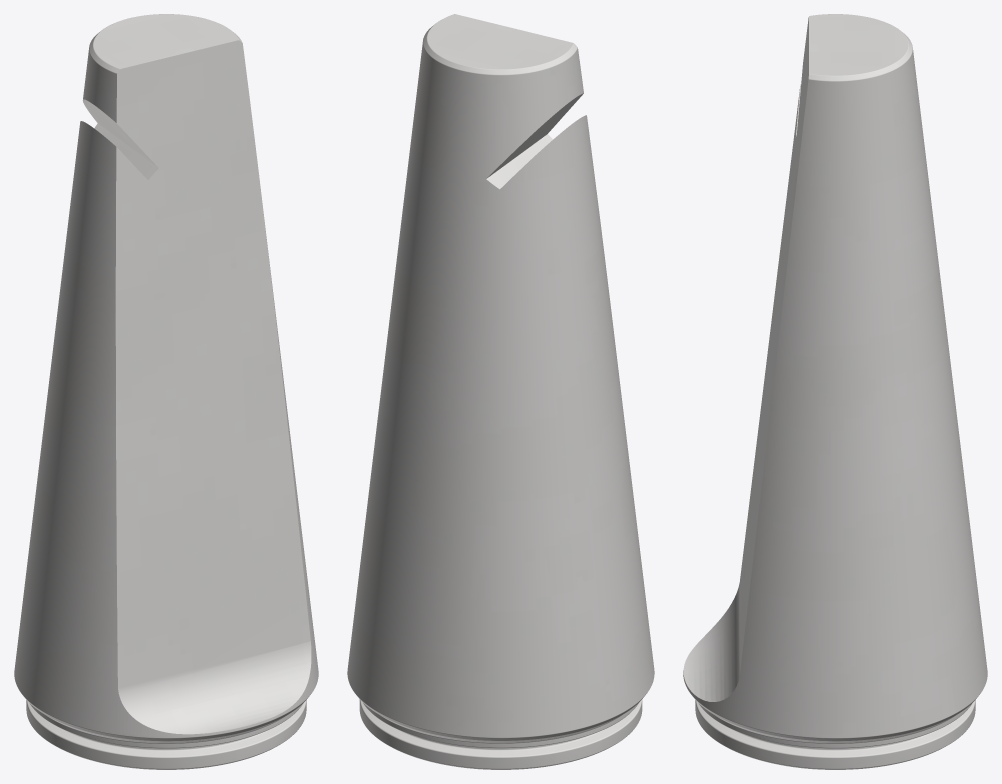
File: bishop-white-hd.glb
3 views of the same model, side by side, from view 1: azimuth 30°, elevation 25°; view 2: azimuth 150°, elevation 25°; view 3: azimuth 270°, elevation 25° (orthographic).
Parts seen in each view (by area): view 1: 03_strelec_bila; view 2: 03_strelec_bila; view 3: 03_strelec_bila.
Part boxes in pixels (x1,y1,x2,y2): 03_strelec_bila: [14, 14, 318, 769]; 03_strelec_bila: [347, 14, 654, 769]; 03_strelec_bila: [683, 14, 987, 769].
Size of the model in its own units: 0.5622 by 1.36 by 0.5622.
1 material, 1 textured.
